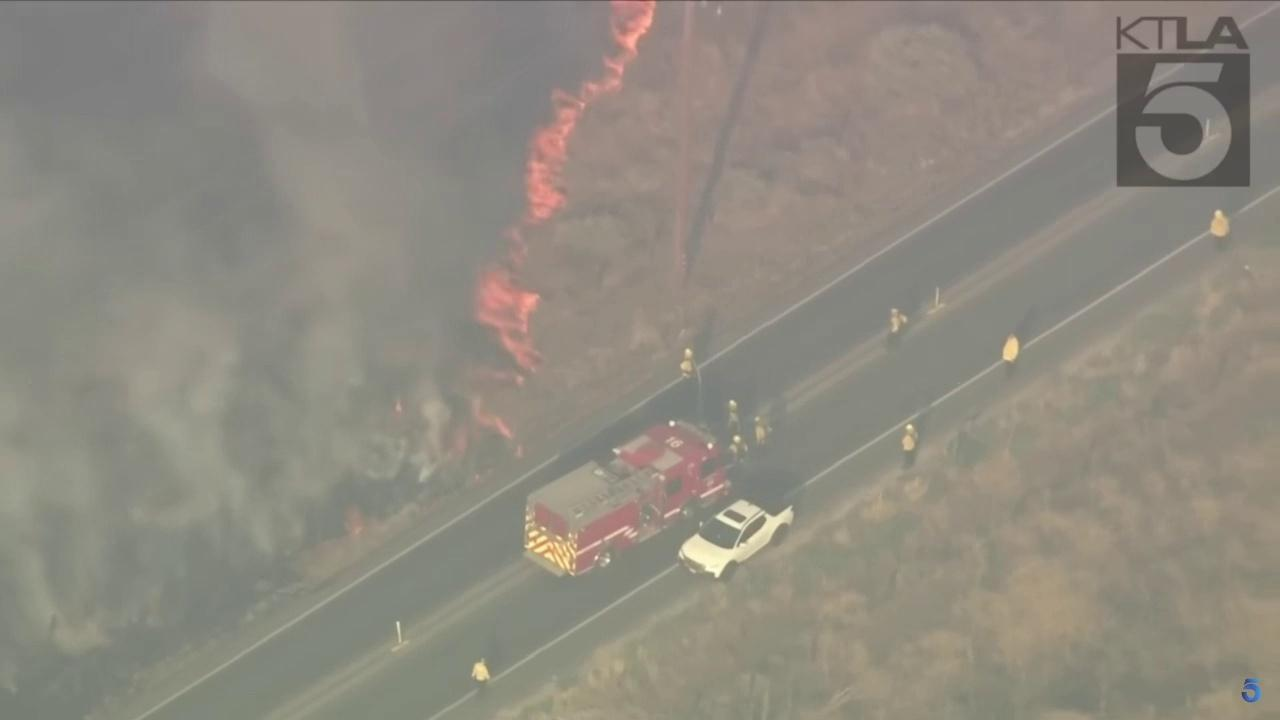fire: (499, 0, 657, 259), (471, 262, 550, 375), (471, 396, 514, 440), (512, 445, 525, 461), (393, 400, 405, 414)
smoke: (0, 0, 622, 692)
